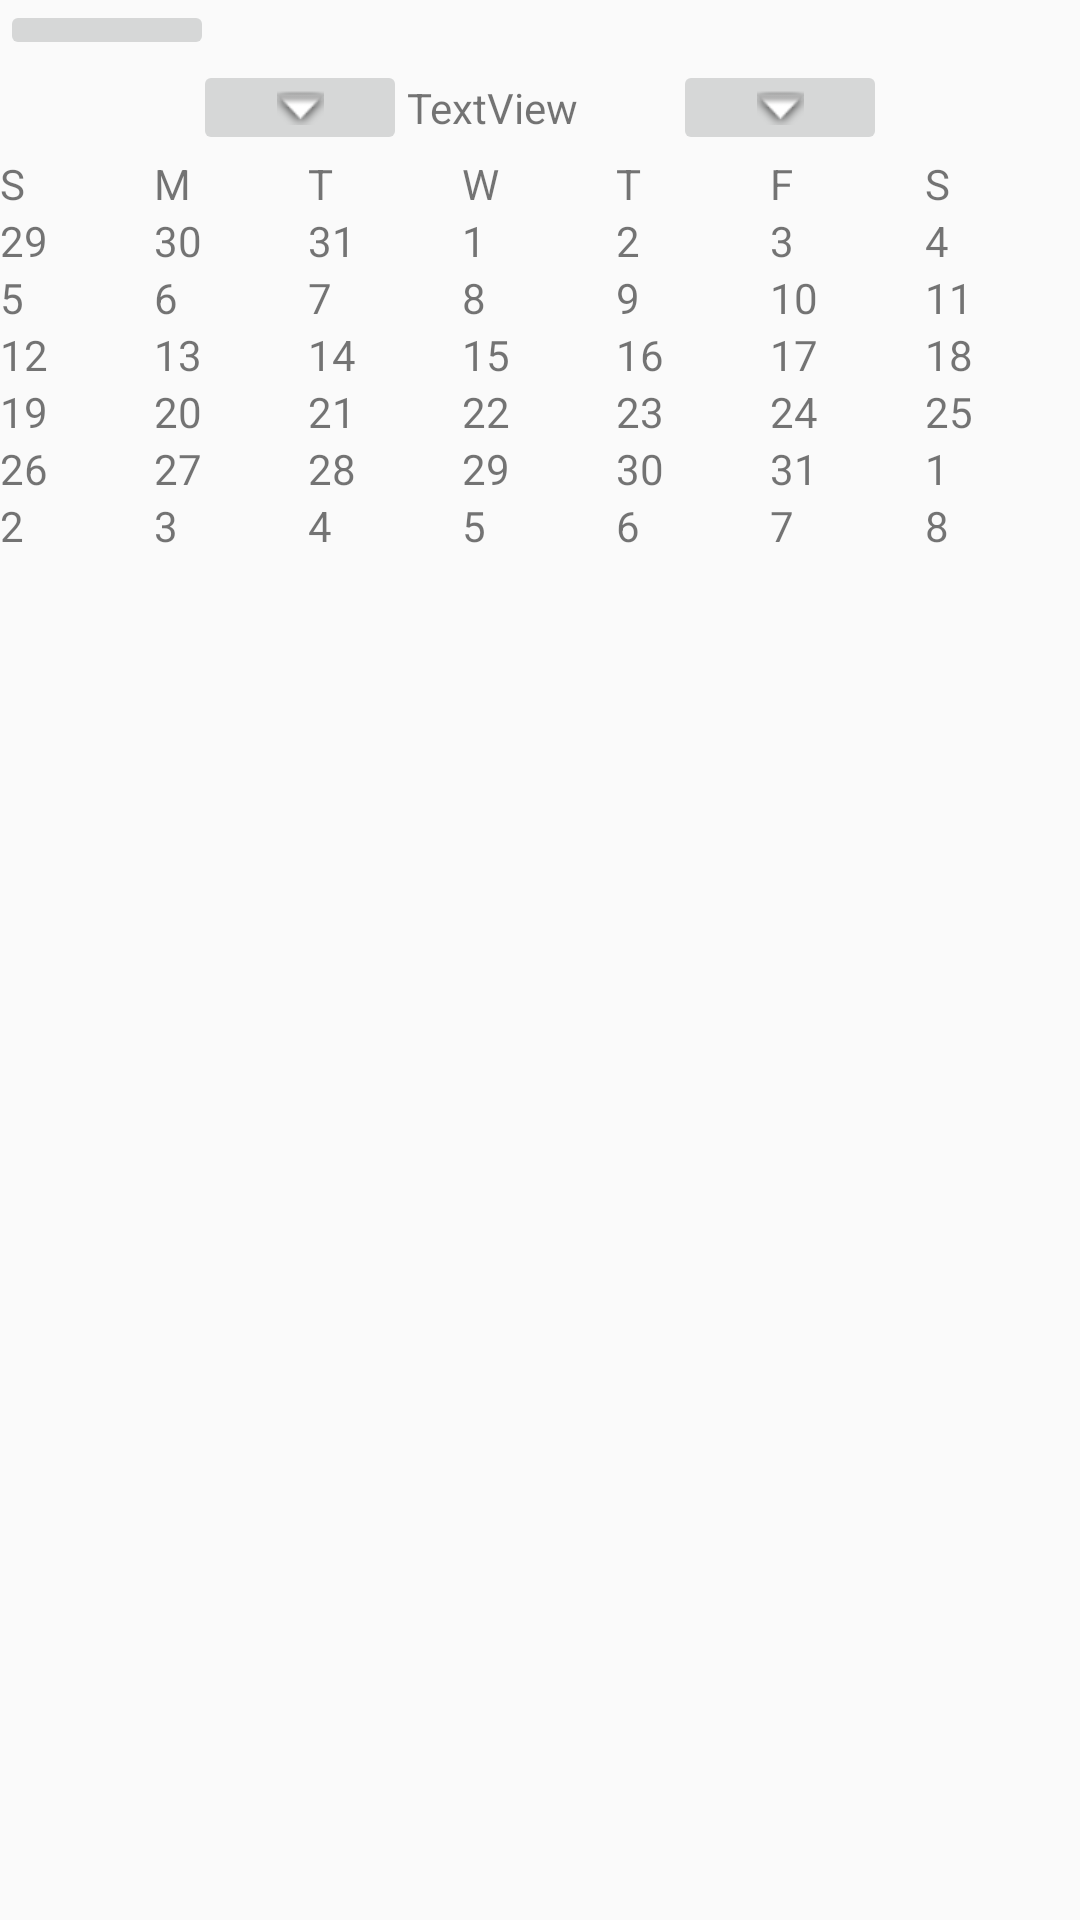

Where to tap for icons on this 1080 x 1920 app screen, as [x,y]:
arrow down float: [300,107], [780,107]
